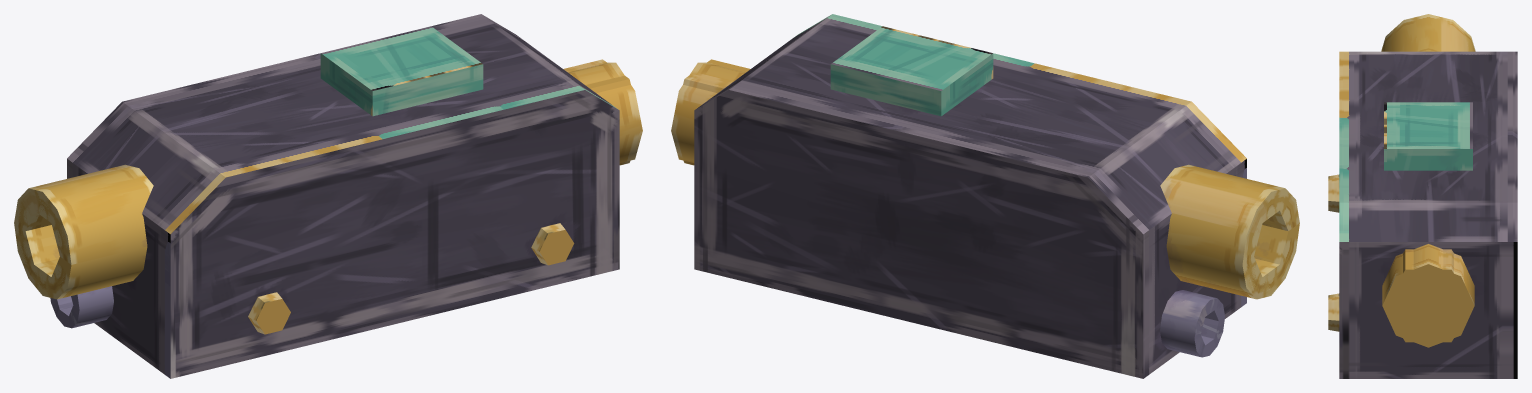
File: att_laser.bundle.fbx
The picture shows the model from 3 angles, left to right: view 1: azimuth 30°, elevation 25°; view 2: azimuth 150°, elevation 25°; view 3: azimuth 270°, elevation 25°; orthographic projection. The views are drawn at different scales.
Visible parts, largest first — view 1: att_laser_low, att_laser; view 2: att_laser_low, att_laser; view 3: att_laser, att_laser_low.
Part boxes in pixels (bbox=[...]): att_laser_low: bbox=[14, 14, 630, 378]; att_laser: bbox=[14, 20, 642, 372]; att_laser_low: bbox=[683, 14, 1297, 378]; att_laser: bbox=[671, 20, 1299, 372]; att_laser: bbox=[1328, 14, 1502, 378]; att_laser_low: bbox=[1339, 51, 1517, 378].
Bounding box in the file's own units: 0.3113 × 0.1106 × 0.1035.
Materials: 1 (1 with a texture image).
